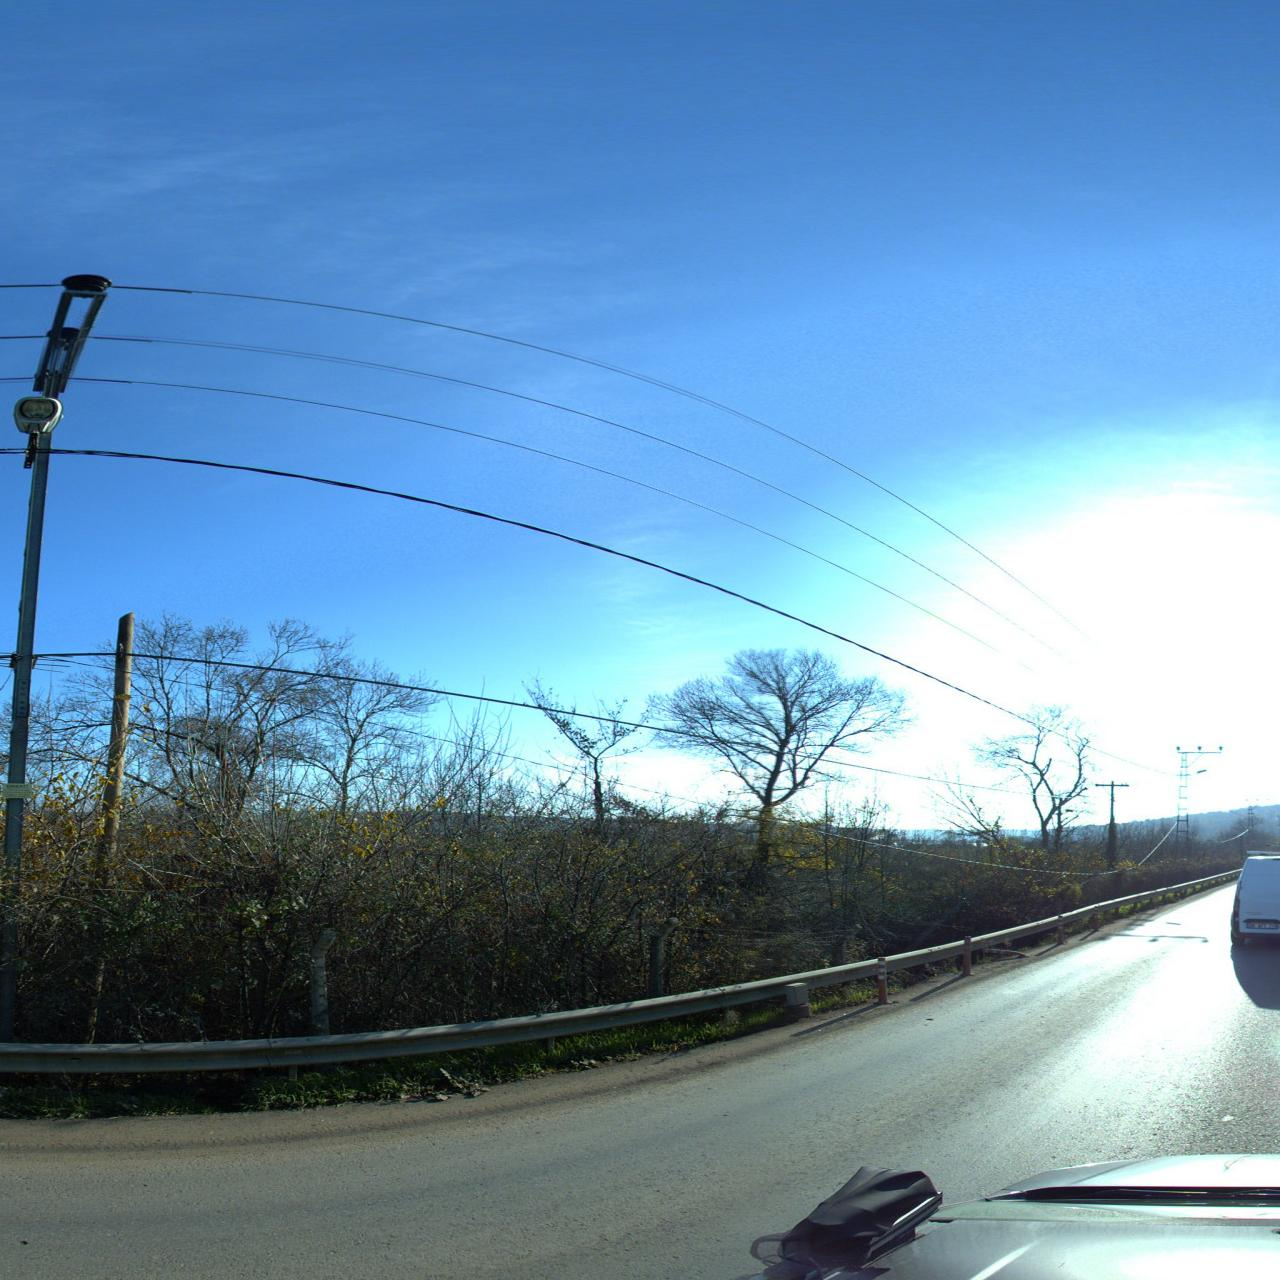Utility Pole Information Plate: (1, 783, 33, 798)
